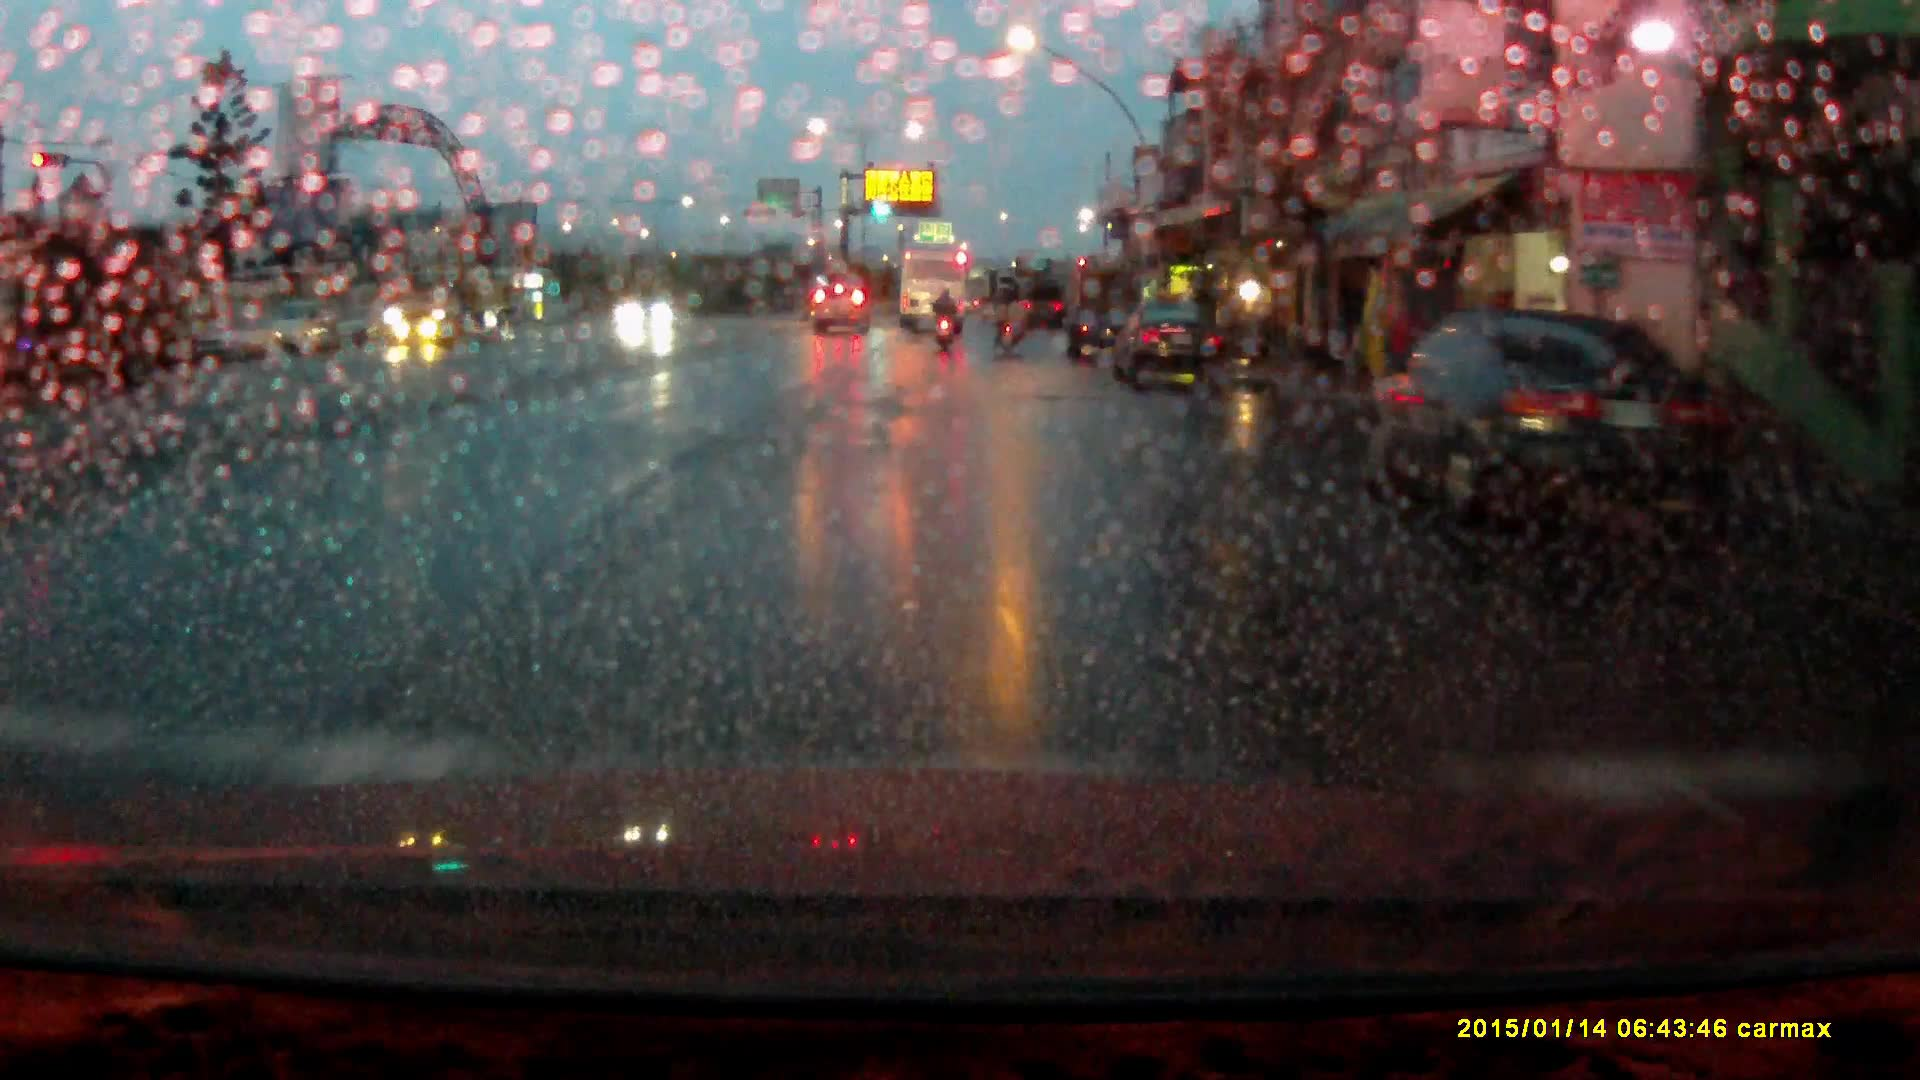rider: (990, 276, 1024, 358), (932, 288, 961, 351)
vehicle: (1368, 314, 1714, 543), (380, 265, 518, 344), (1115, 306, 1227, 390), (1065, 265, 1144, 363), (898, 245, 970, 332), (1012, 260, 1069, 330), (200, 312, 279, 363), (810, 282, 874, 337), (269, 302, 341, 351), (624, 293, 677, 329)
